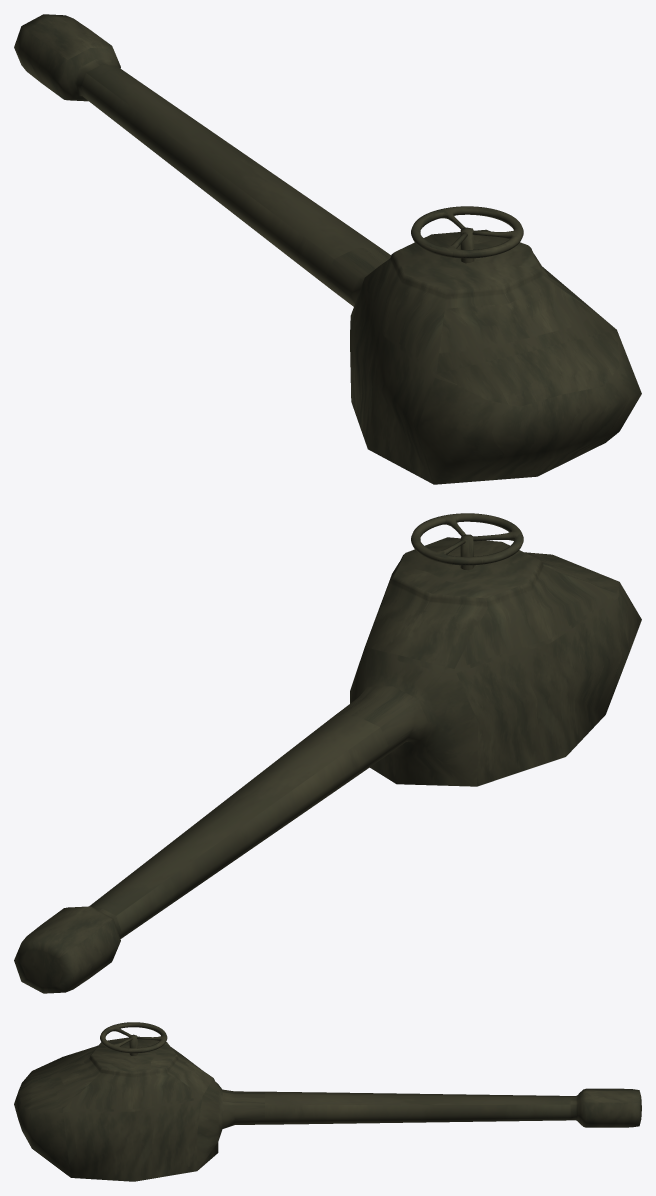
The model's file is piippu.fbx.
3 renders of one model, top to bottom at view 1: azimuth 30°, elevation 25°; view 2: azimuth 150°, elevation 25°; view 3: azimuth 270°, elevation 25°, orthographic. The views are drawn at different scales.
Visible parts, largest first — view 1: Piippu; view 2: Piippu; view 3: Piippu.
Part boxes in pixels (<box>): Piippu: <box>14,14,641,484</box>; Piippu: <box>14,513,641,993</box>; Piippu: <box>14,1022,641,1181</box>.
Size of the model in its own units: 2.97 by 2.63 by 12.74.
